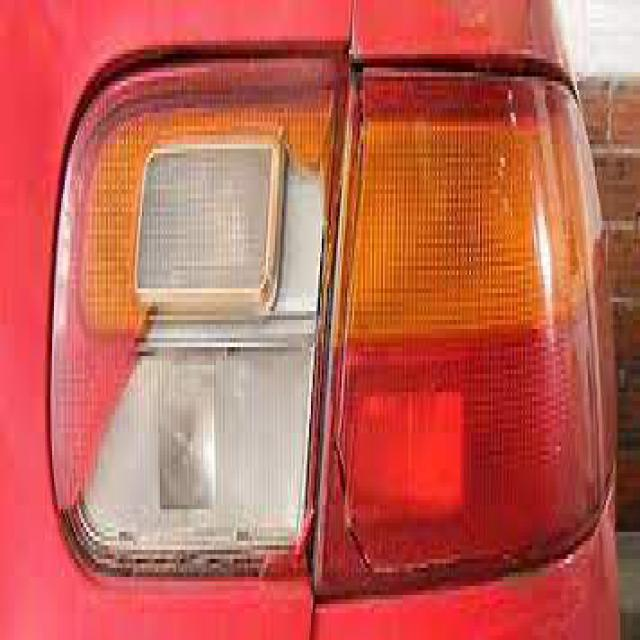Taillight-Damage: (16, 0, 639, 636)
